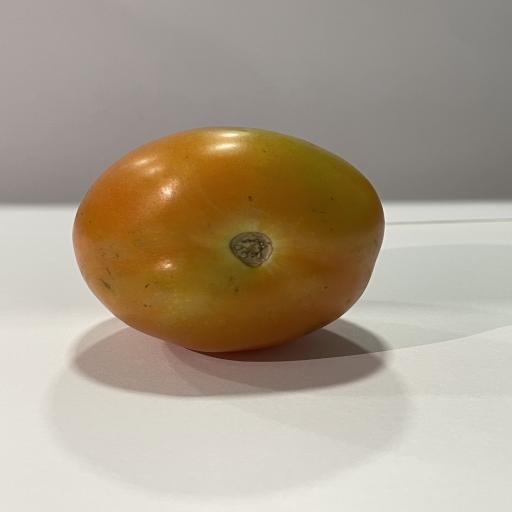unripe: (73, 127, 384, 352)
